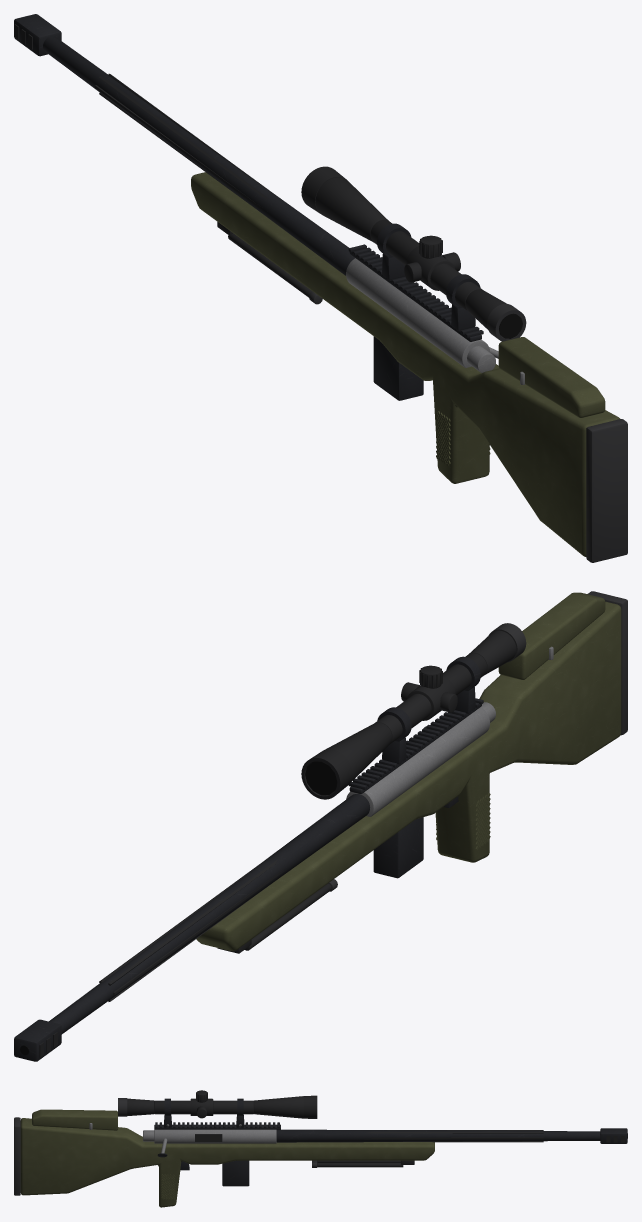
Rendered from sniper_rifle.glb.
3 views of the same model, one above another, from view 1: azimuth 30°, elevation 25°; view 2: azimuth 150°, elevation 25°; view 3: azimuth 270°, elevation 25° (orthographic). The views are drawn at different scales.
Parts seen in each view (by area): view 1: sniper_rifle; view 2: sniper_rifle; view 3: sniper_rifle.
Boxes of the visible parts, x1,y1,x2,y2 form: sniper_rifle: (14, 14, 627, 562); sniper_rifle: (14, 591, 627, 1061); sniper_rifle: (14, 1090, 627, 1207).
Size of the model in its own units: 0.089 by 0.2702 by 1.36.
7 materials, 3 textured.
